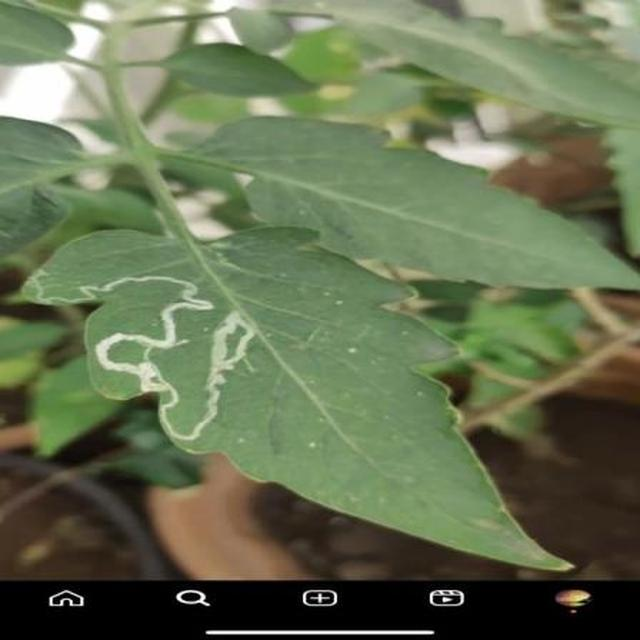Leaf Miner: (422, 247, 640, 573)
